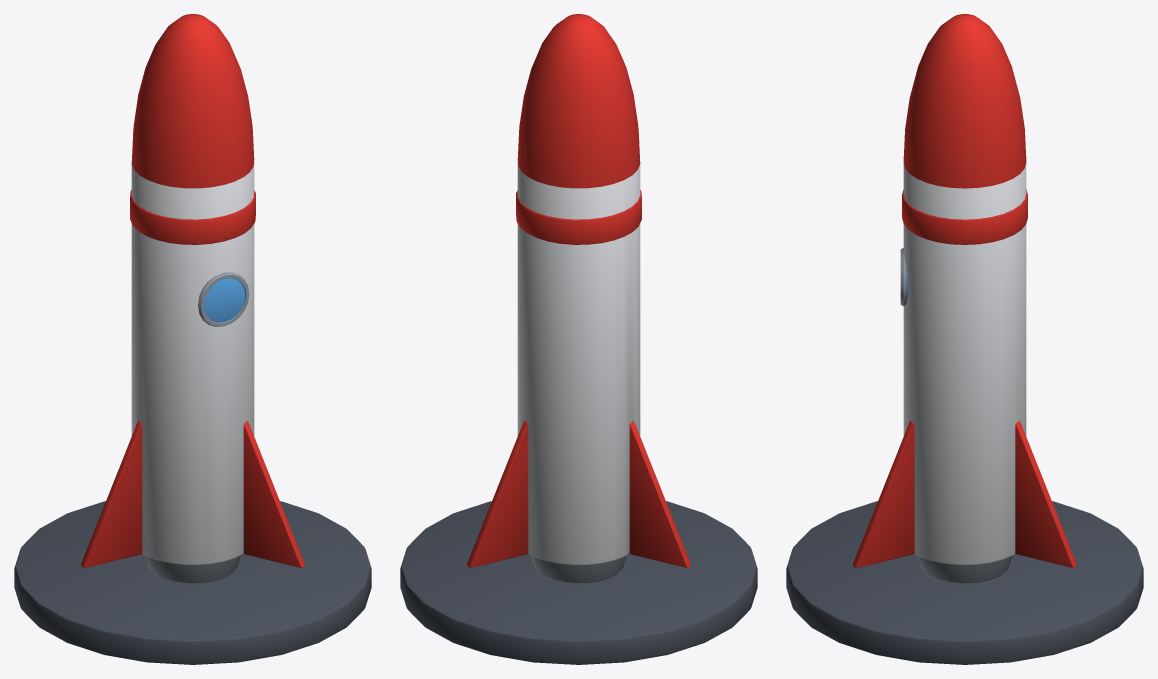
File: sp_rocket.glb
The picture shows the model from 3 angles, left to right: view 1: azimuth 30°, elevation 25°; view 2: azimuth 150°, elevation 25°; view 3: azimuth 270°, elevation 25°; orthographic projection.
Parts seen in each view (by area): view 1: sp_rocket; view 2: sp_rocket; view 3: sp_rocket.
Part boxes in pixels (x1,y1,x2,y2): sp_rocket: [14, 14, 371, 664]; sp_rocket: [400, 14, 757, 664]; sp_rocket: [786, 14, 1143, 664].
Size of the model in its own units: 6.4 by 11.36 by 6.4.
